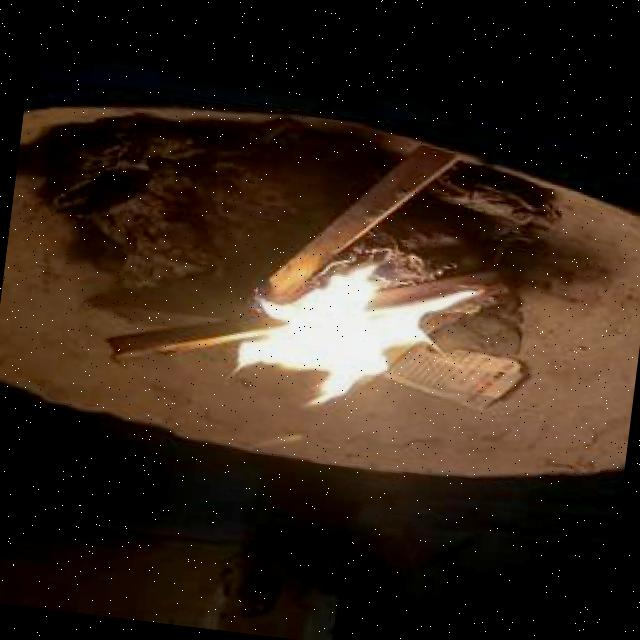fire: (227, 241, 485, 435)
